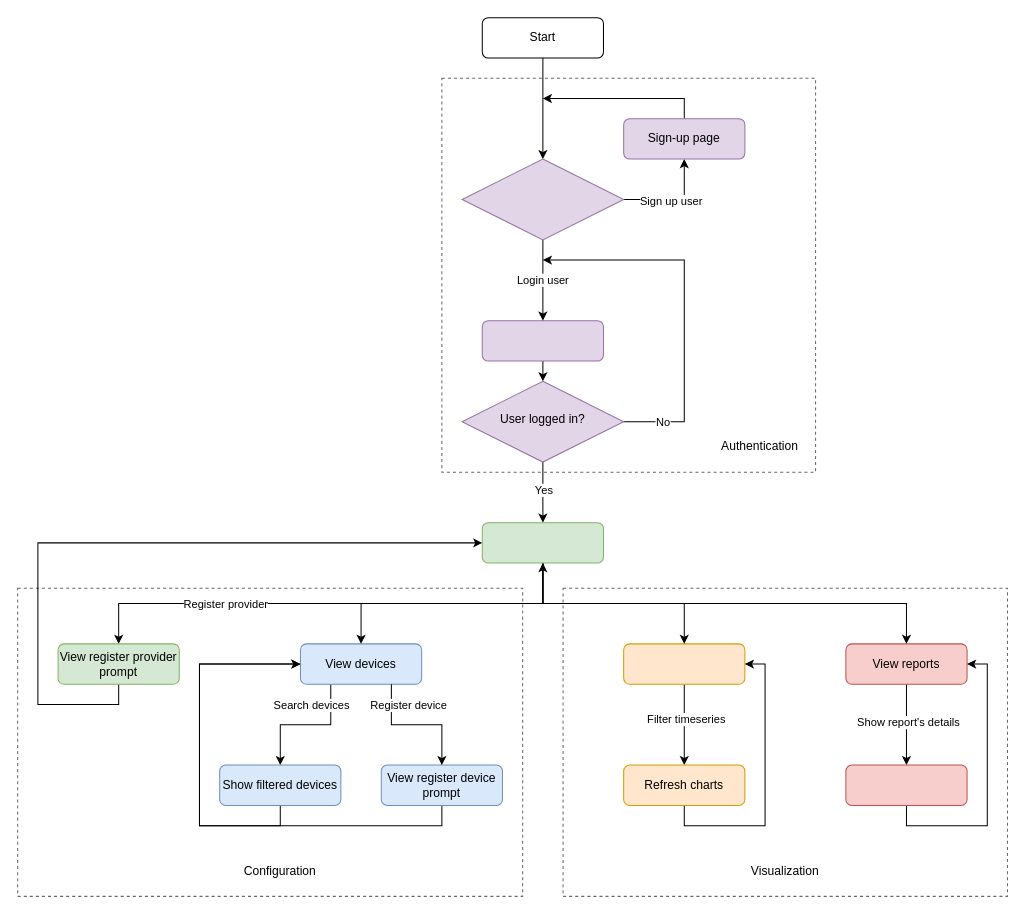
Some shapes in this 1025 by 914 pixel diagram are drawn without their labels. Here are the shapes that lost their labels. From the top down, the box of each, then its label:
(461, 158, 624, 240): User registered?
(481, 320, 603, 361): Login page
(481, 522, 603, 563): View listings
(623, 643, 745, 684): View dasboards
(845, 764, 967, 805): View report's details pop-up
